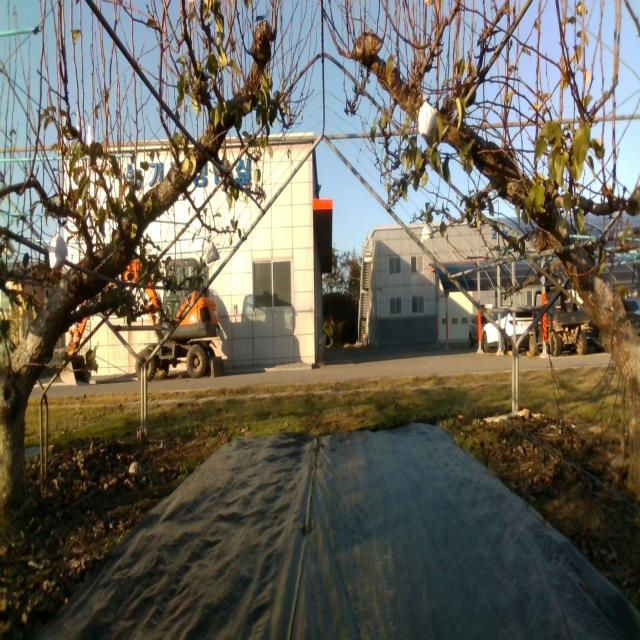pearbags: (418, 101, 436, 148), (48, 228, 67, 272), (420, 222, 434, 244), (206, 241, 220, 262)
